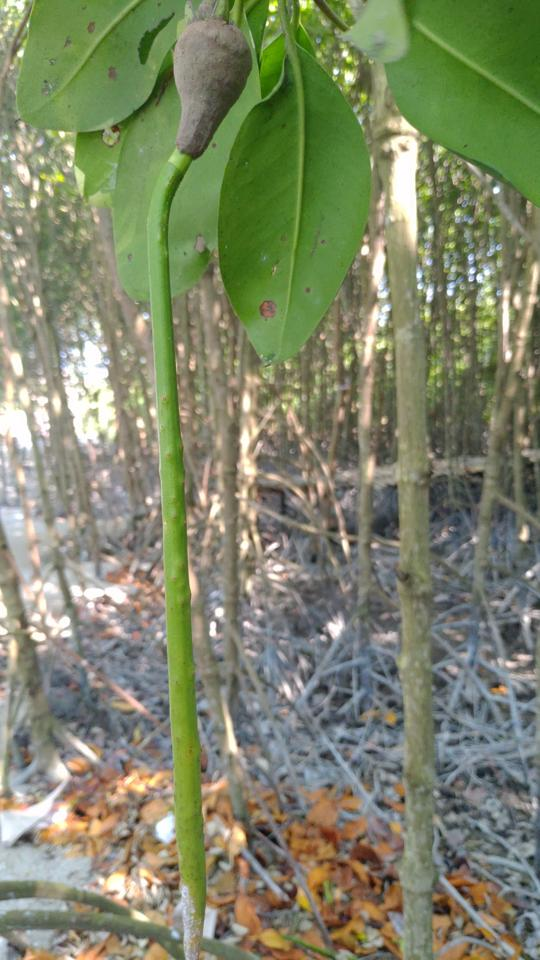setengah matang: (134, 11, 261, 959)
